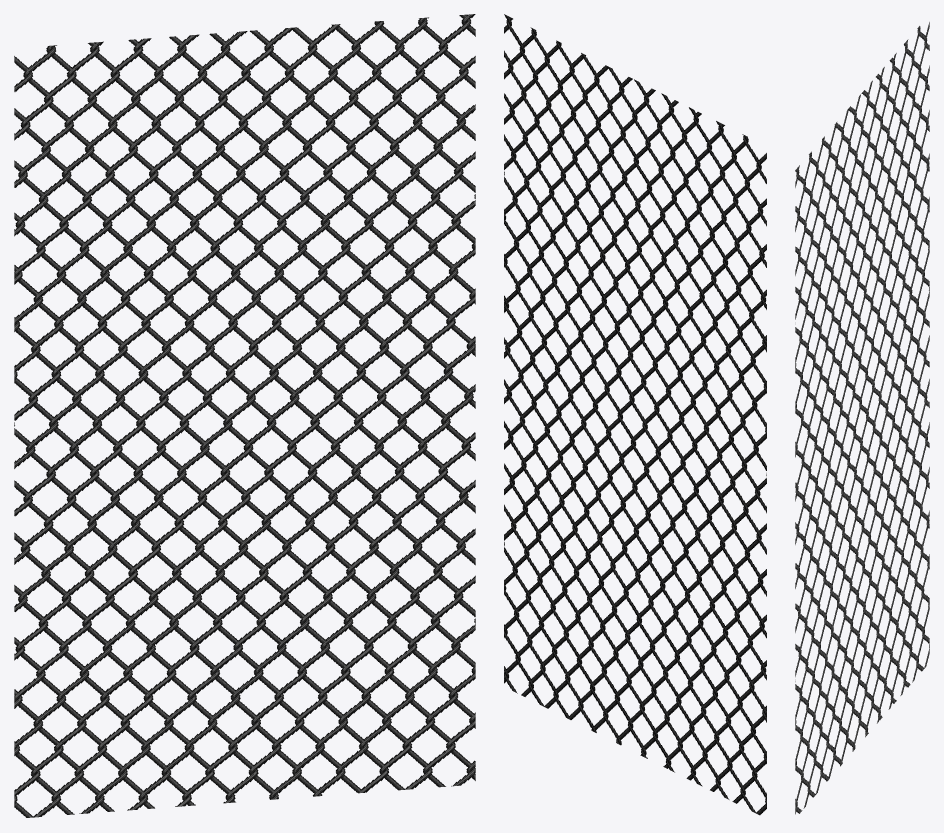
Rendered from chain_link_fence_1.glb.
3 renders of one model, left to right at view 1: azimuth 30°, elevation 25°; view 2: azimuth 150°, elevation 25°; view 3: azimuth 270°, elevation 25°, orthographic. The views are drawn at different scales.
Visible parts, largest first — view 1: Object; view 2: Object; view 3: Object.
Part boxes in pixels (x1,y1,x2,y2): Object: [14, 14, 475, 817]; Object: [504, 14, 766, 815]; Object: [795, 22, 929, 814].
Size of the model in its own units: 1.03 by 1.99 by 0.3751.
Materials: 1 (1 with a texture image).
